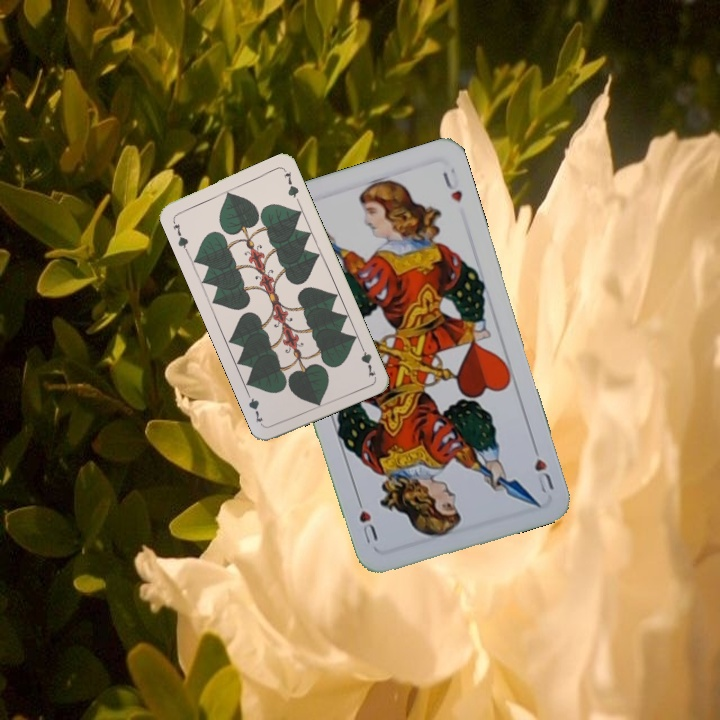G7: (168, 215, 191, 254), (356, 340, 378, 380)
HU: (528, 439, 556, 496)
